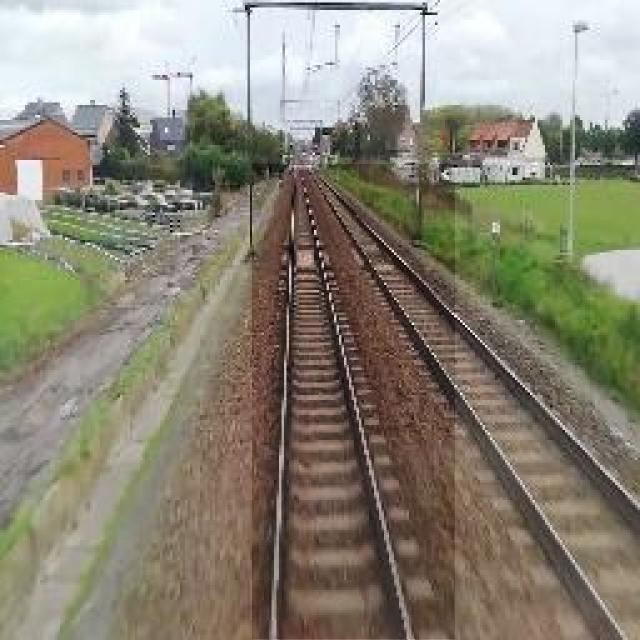rail: (254, 166, 456, 640)
